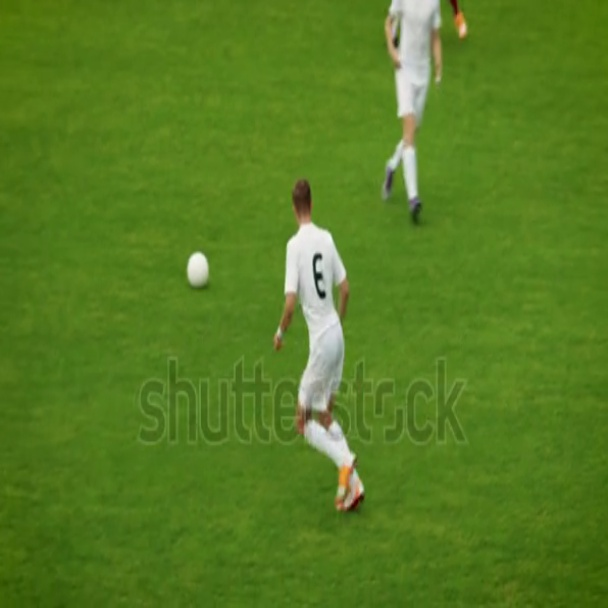ball: (189, 251, 207, 281)
